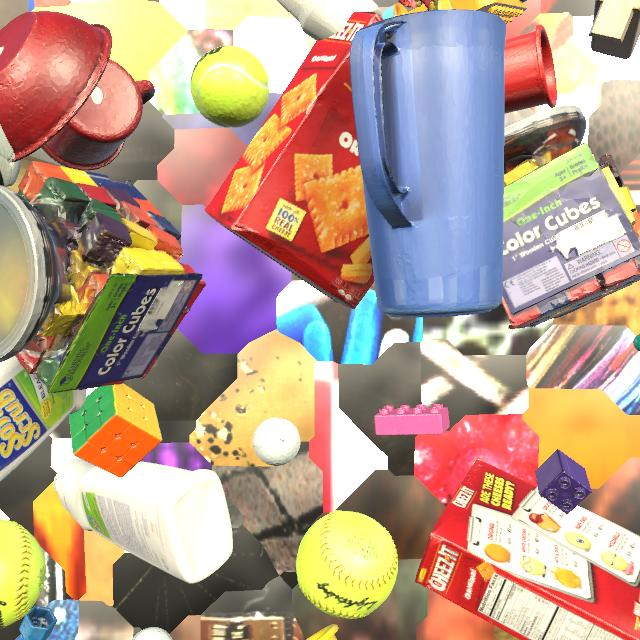ycb_003_cracker_box: (205, 11, 383, 309), (415, 459, 640, 640)
